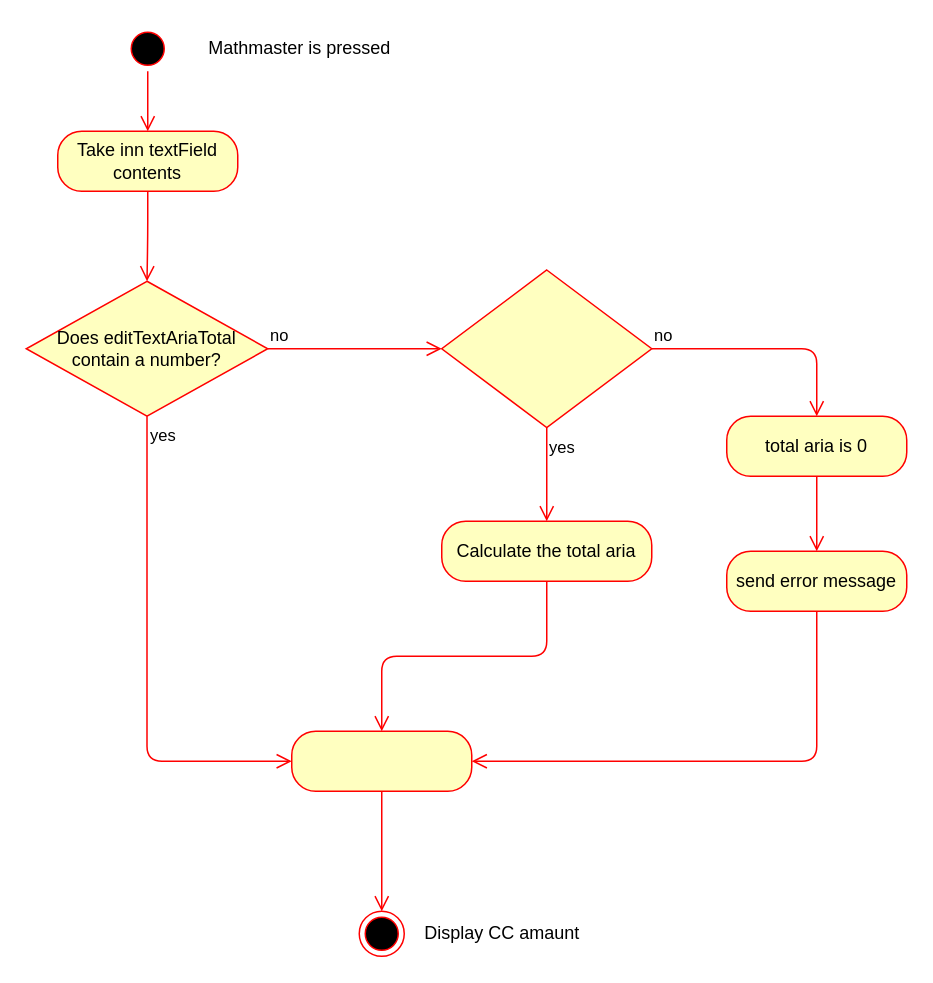
The diagram is 933 pixels wide and 983 high, and some of its shapes have lost their labels. The centre of each missing label's shape, as x and y in pixels:
"calculate CC" goes at [381,760].
"Does editAriaX and editAriaY contain numbers?" goes at [546,348].
